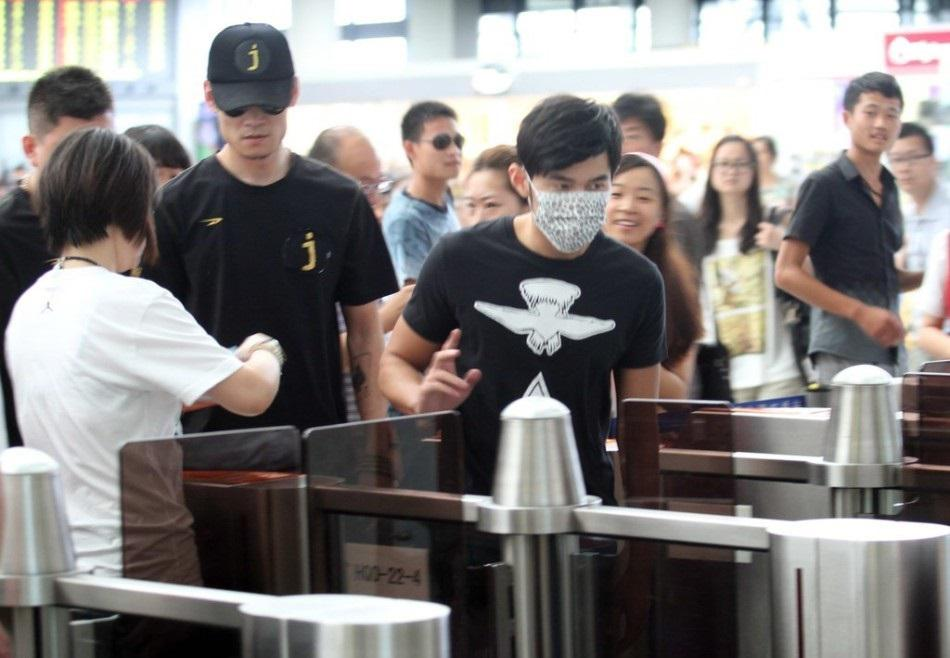NONE: (218, 81, 286, 157), (329, 146, 390, 224), (606, 170, 657, 242), (467, 179, 515, 243), (857, 95, 905, 153), (420, 129, 464, 178), (892, 141, 933, 192), (713, 143, 753, 194), (610, 118, 650, 166), (752, 140, 775, 171)
OK: (529, 165, 611, 247)
